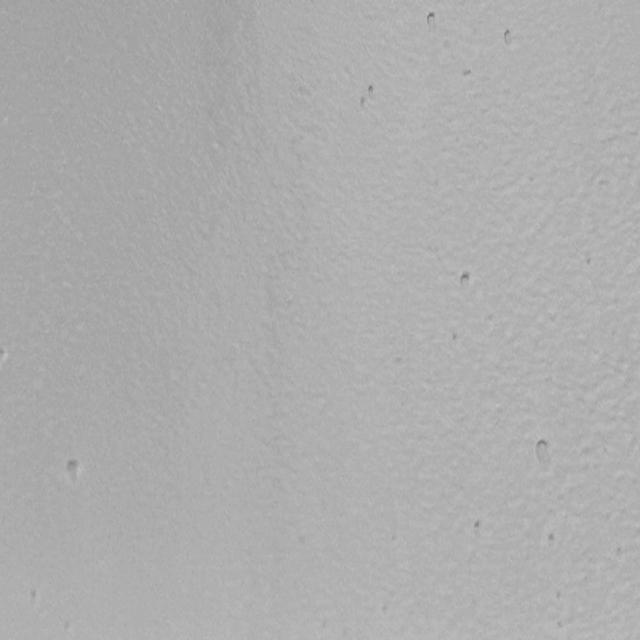pin holes: (531, 436, 554, 466), (62, 456, 84, 486), (454, 269, 476, 295), (500, 26, 520, 50), (424, 8, 442, 31), (26, 586, 43, 610), (471, 518, 488, 536), (545, 530, 560, 550), (360, 93, 371, 120), (0, 346, 11, 370), (366, 82, 380, 100), (450, 328, 462, 346), (462, 66, 477, 79)
